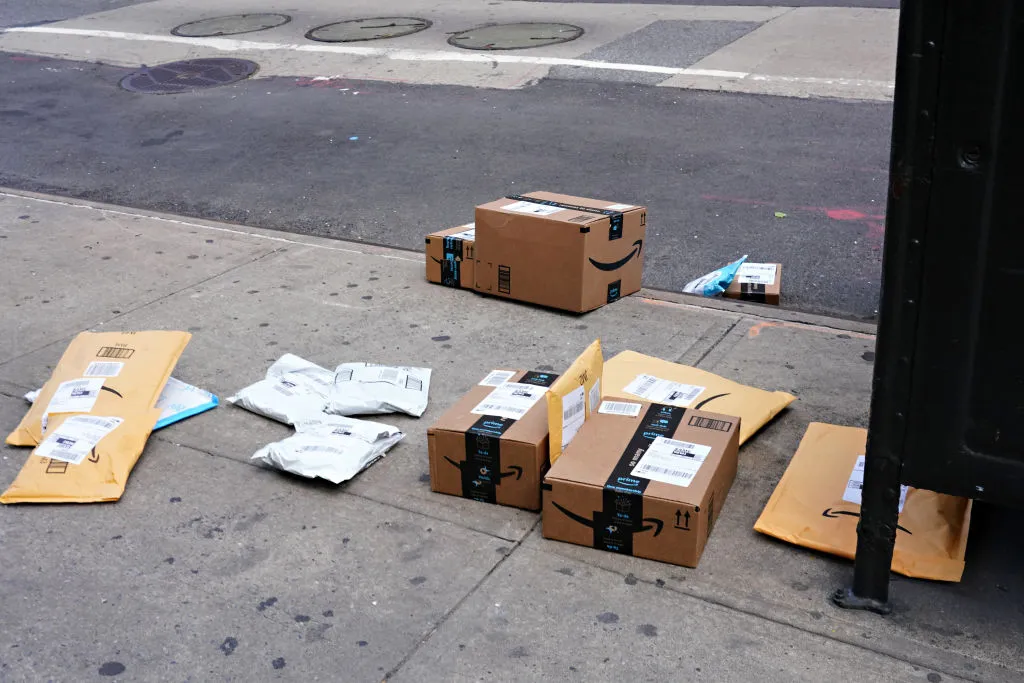package: (542, 393, 745, 574), (423, 366, 589, 515), (475, 192, 654, 316), (428, 221, 478, 293), (723, 259, 788, 306)
